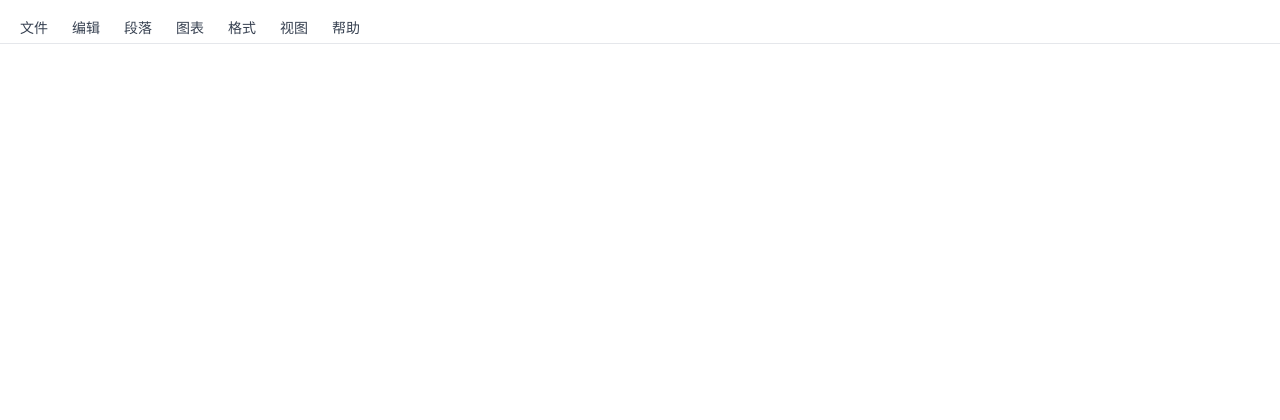
it: MenuBar › 点击编辑菜单展开下拉
The image size is (1280, 420).
Click the button "编辑".
click(86, 28)  # box [60,14,112,42]
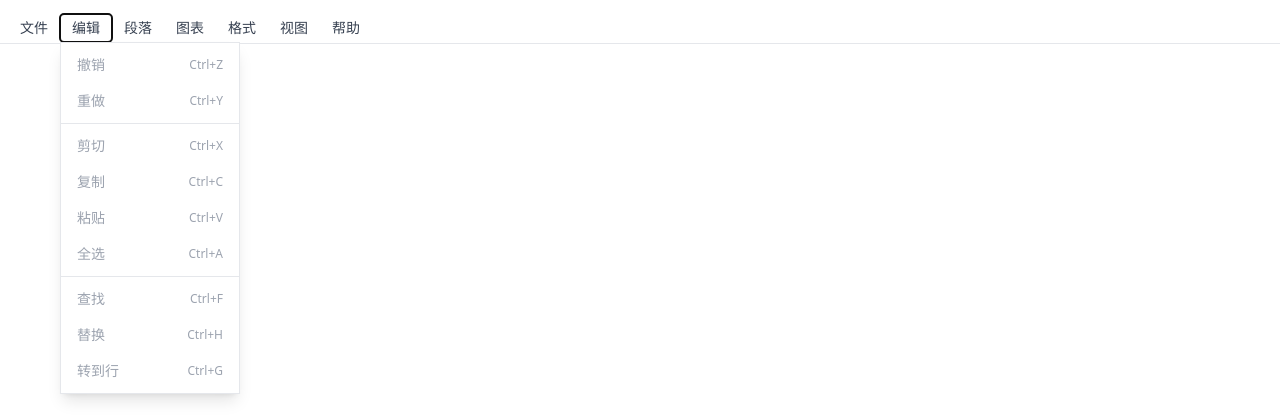
Result: the text "撤销" is shown at [77,54,105,74]
Result: the text "重做" is shown at [77,90,105,110]
Result: the text "查找" is shown at [77,288,105,308]
